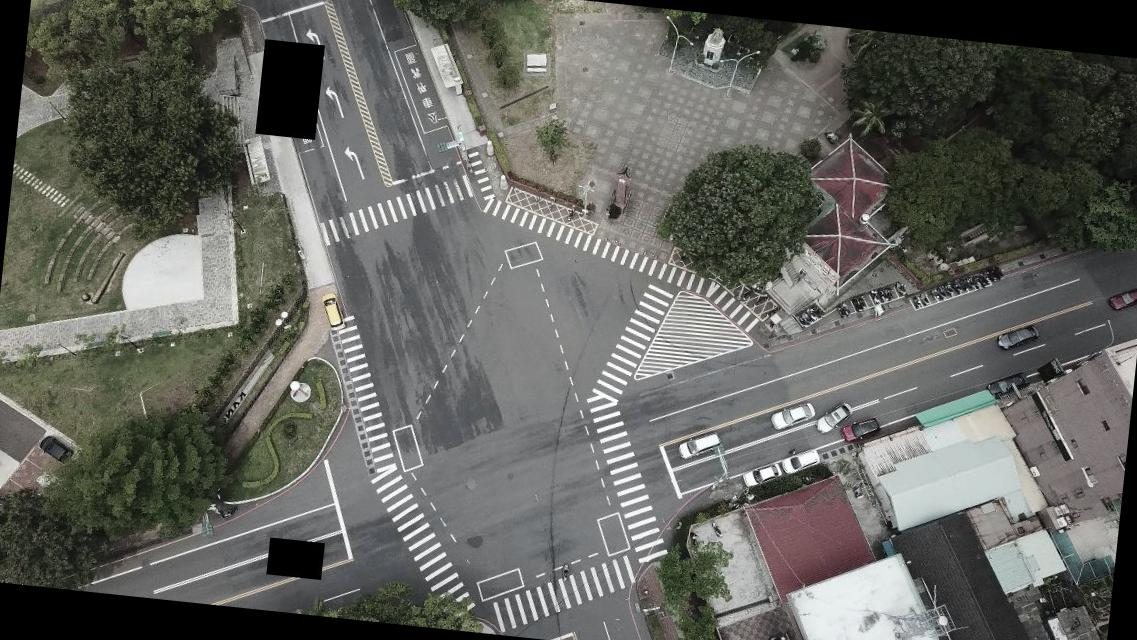vehicle: (768, 398, 816, 434), (676, 429, 723, 464), (814, 398, 854, 438), (995, 320, 1040, 353), (985, 368, 1030, 401), (839, 413, 882, 446), (779, 445, 822, 478), (740, 459, 782, 490), (318, 291, 349, 333), (37, 433, 76, 465), (1106, 280, 1136, 313)
